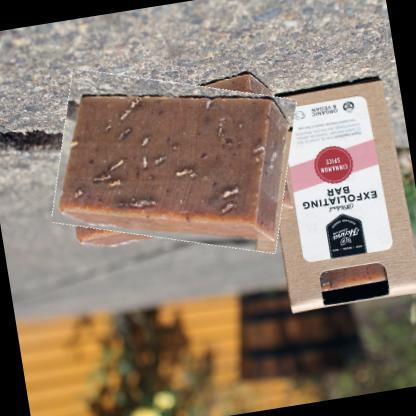soap: (38, 51, 308, 270)
